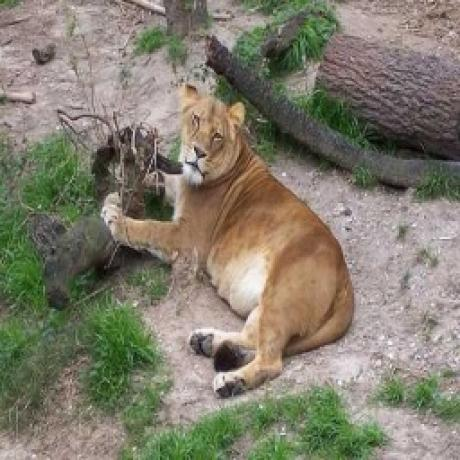Lion: (103, 78, 356, 398)
